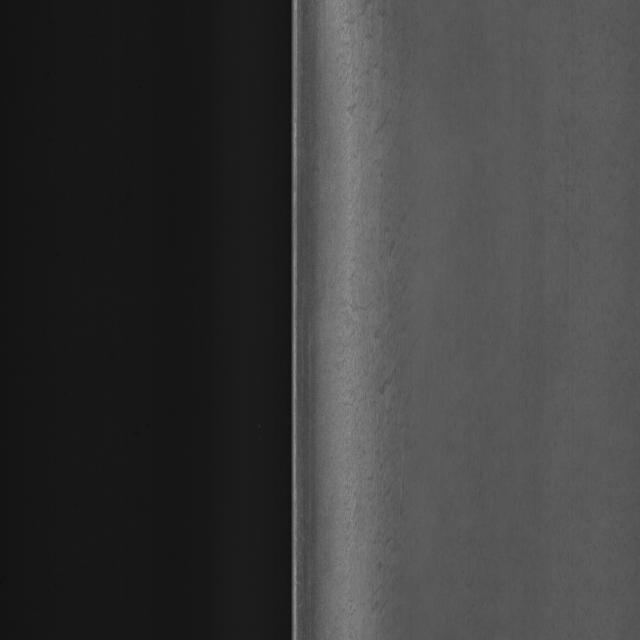inclusion: (316, 32, 408, 592)
